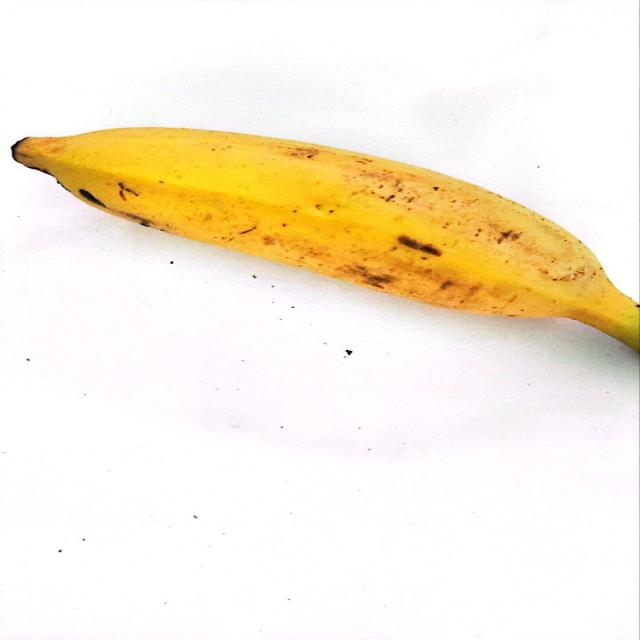fresh_banana: (13, 126, 640, 359)
